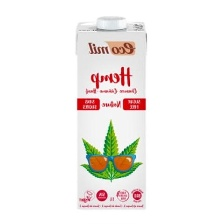carton: (73, 11, 151, 215)
